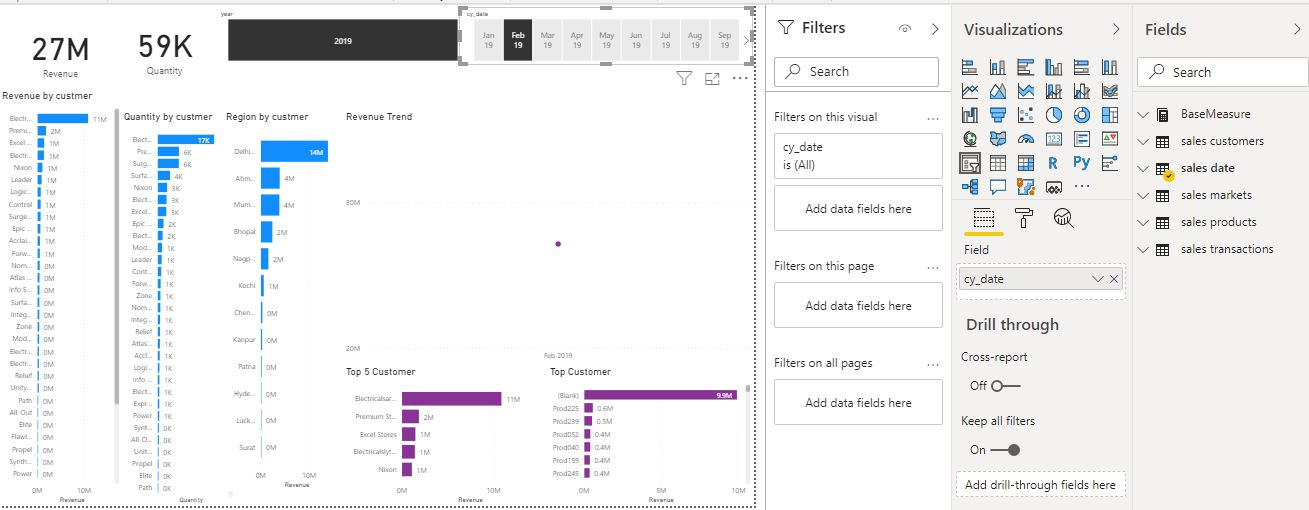

The page's visual inventory and layout, read from the dashboard file:
{"tool":"powerbi","page":{"name":"Revenue review ","canvas":[1280,850],"ordinal":0},"visuals":[{"type":"card","fields":{"Values":["BaseMeasure.Revenue"]},"box":[0,0,208.7,156.1],"z":0},{"type":"card","fields":{"Values":["BaseMeasure.Quantity"]},"box":[181.5,0,198.5,144.2],"z":1000},{"type":"barChart","title":"Revenue by custmer","fields":{"Category":["sales customers.custmer_name"],"Y":["BaseMeasure.Revenue"]},"box":[0,144.2,208.7,705.8],"z":2000},{"type":"barChart","title":"Quantity by custmer","fields":{"Category":["sales customers.custmer_name"],"Y":["BaseMeasure.Quantity"]},"box":[207,179.8,195.1,670.2],"z":3000},{"type":"slicer","fields":{"Values":["sales date.year"]},"box":[363.1,3.4,439.4,98.4],"z":4000},{"type":"slicer","fields":{"Values":["sales date.cy_date"]},"box":[780.4,3.4,498.8,98.4],"z":5000},{"type":"barChart","title":"Region by custmer","fields":{"Category":["sales markets.markets_name"],"Y":["BaseMeasure.Revenue"]},"box":[380,179.8,203.6,644.7],"z":6000},{"type":"barChart","title":"Top 5 Customer","fields":{"Category":["sales customers.custmer_name"],"Y":["BaseMeasure.Revenue"]},"box":[583.6,612.5,349.5,237.5],"z":7000},{"type":"barChart","title":"Top Customer","fields":{"Y":["BaseMeasure.Revenue"],"Category":["sales products.product_code"]},"box":[929.7,612.5,349.5,237.5],"z":8000},{"type":"lineChart","title":"Revenue Trend","fields":{"Y":["BaseMeasure.Revenue"],"Category":["sales date.cy_date"]},"box":[583.6,179.8,695.6,432.6],"z":9000}]}

Visuals, with their boxes on the page's 1280x850 design canvas (x1, y1, x2, y2). These are canvas units, not pixel positions in the 1309x510 screenshot, which may show the page scaled, cropped or inside an application window:
card - BaseMeasure.Revenue: Rect(0, 0, 209, 156)
card - BaseMeasure.Quantity: Rect(182, 0, 380, 144)
"Revenue by custmer" barChart: Rect(0, 144, 209, 850)
"Quantity by custmer" barChart: Rect(207, 180, 402, 850)
slicer - sales date.year: Rect(363, 3, 802, 102)
slicer - sales date.cy_date: Rect(780, 3, 1279, 102)
"Region by custmer" barChart: Rect(380, 180, 584, 824)
"Top 5 Customer" barChart: Rect(584, 612, 933, 850)
"Top Customer" barChart: Rect(930, 612, 1279, 850)
"Revenue Trend" lineChart: Rect(584, 180, 1279, 612)
